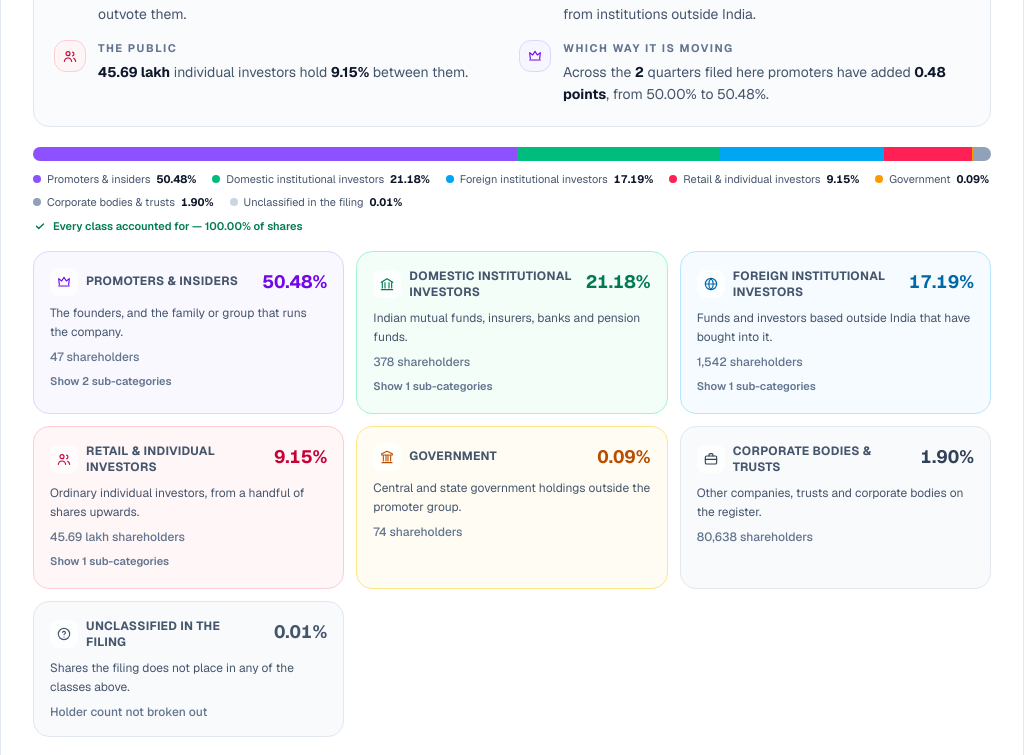
OwnershipBoard › opens and closes a class's sub-categories
(page scrolled)
Check: the text "Promoter bodies (Indian)" is not shown
Click the button "Show 2 sub-categories".
click(111, 381)  # box [50, 373, 172, 389]
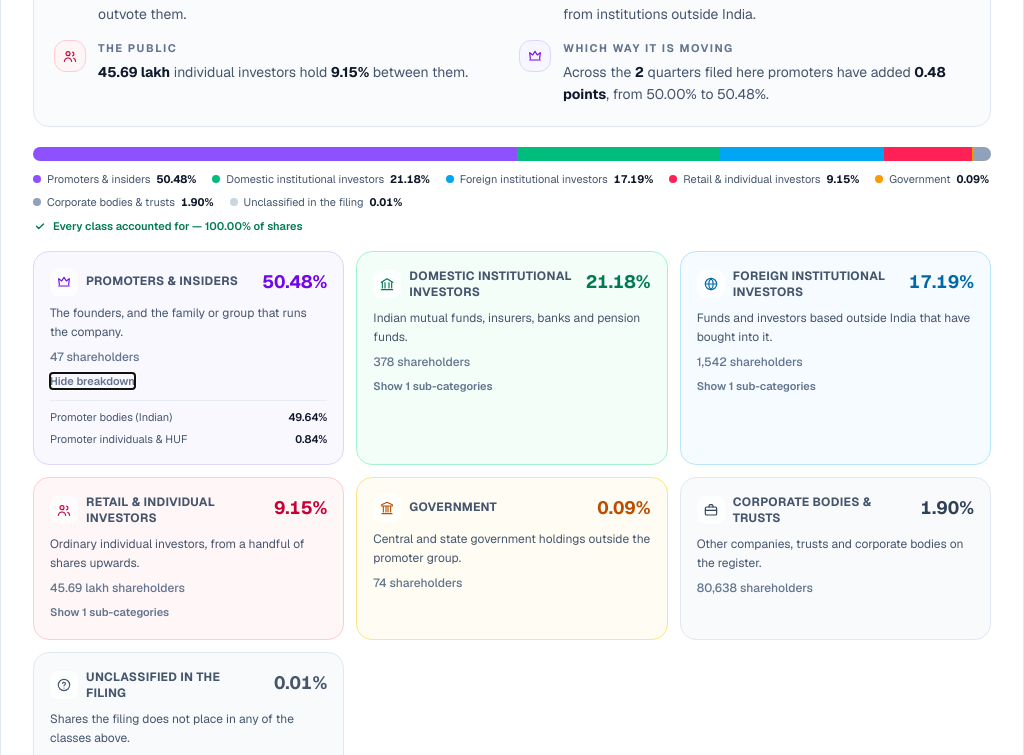
Check: the text "Promoter bodies (Indian)" is shown, box [50, 409, 172, 425]
Check: the text "49.64%" is shown, box [288, 409, 327, 425]
Click the button "Hide breakdown".
click(92, 381)  # box [50, 373, 135, 389]
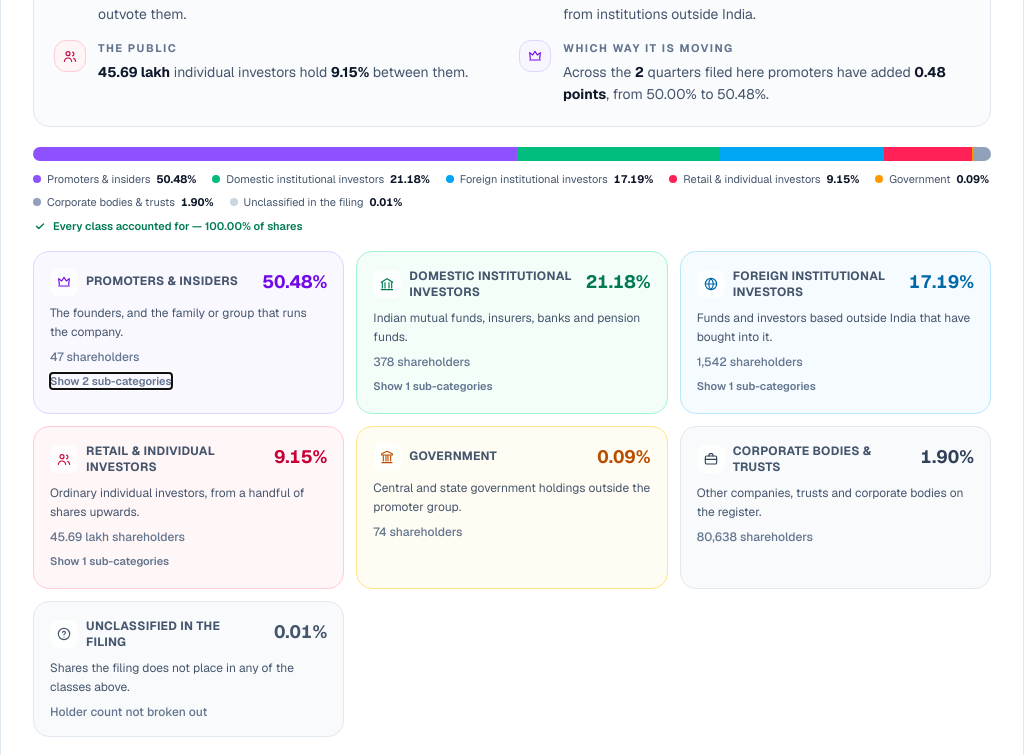
Check: the text "Promoter bodies (Indian)" is gone
